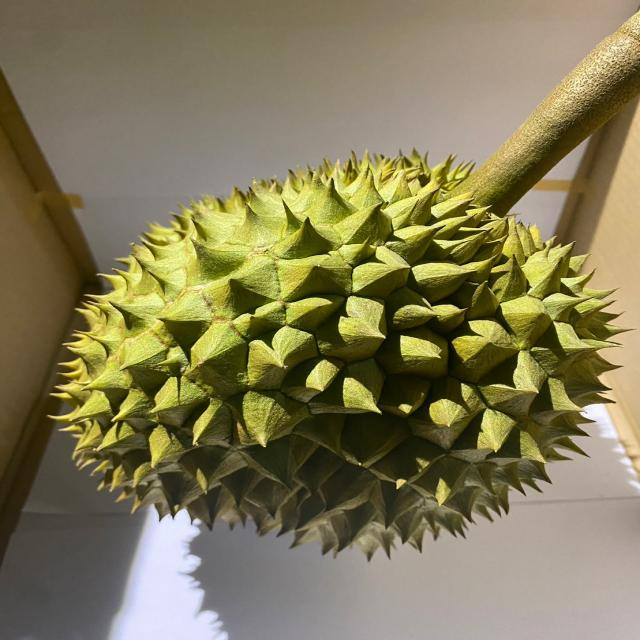immature: (48, 147, 628, 556)
